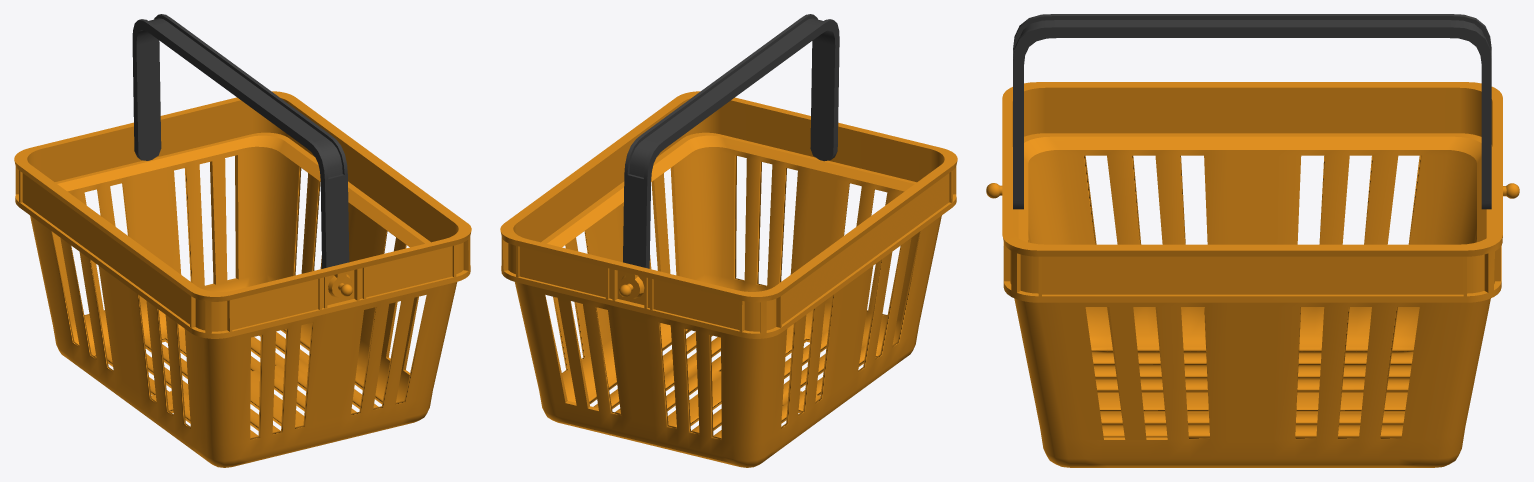
Rendered from basket 3.fbx.
3 renders of one model, left to right at view 1: azimuth 30°, elevation 25°; view 2: azimuth 150°, elevation 25°; view 3: azimuth 270°, elevation 25°, orthographic. The views are drawn at different scales.
Parts seen in each view (by area): view 1: Cart8, Handle; view 2: Cart8, Handle; view 3: Cart8, Handle.
Boxes of the visible parts, x1,y1,x2,y2 form: Cart8: (14,91,471,467); Handle: (132,14,349,268); Cart8: (500,91,957,467); Handle: (623,14,839,268); Cart8: (986,82,1519,467); Handle: (1013,14,1491,209).
Size of the model in its own units: 8.72 by 9.28 by 11.66.
